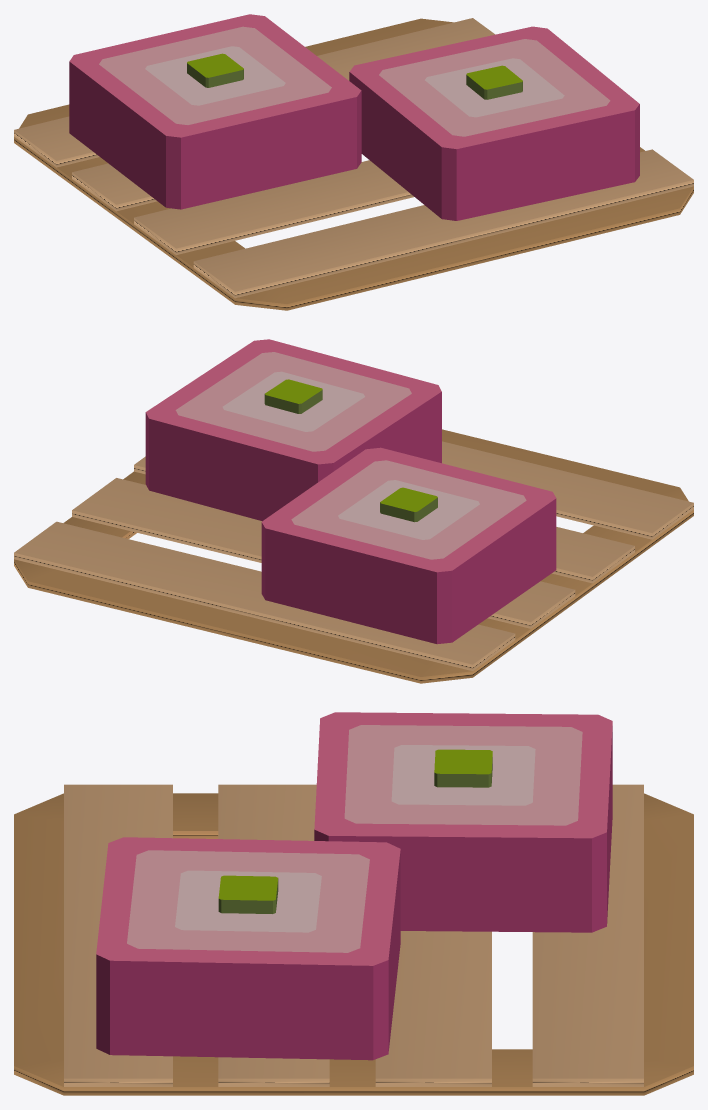
Rendered from BC_cookrecipe_S_11.fbx.
The picture shows the model from 3 angles, top to bottom: view 1: azimuth 30°, elevation 25°; view 2: azimuth 150°, elevation 25°; view 3: azimuth 270°, elevation 25°; orthographic projection. The views are drawn at different scales.
Visible parts, largest first — view 1: BC_cookrecipe_S_11 1, base; view 2: BC_cookrecipe_S_11 1, base; view 3: BC_cookrecipe_S_11 1, base.
Part boxes in pixels (x1=…): BC_cookrecipe_S_11 1: x1=69, y1=14, x2=639, y2=220; base: x1=14, y1=18, x2=693, y2=310; BC_cookrecipe_S_11 1: x1=145, y1=339, x2=556, y2=644; base: x1=14, y1=429, x2=693, y2=683; BC_cookrecipe_S_11 1: x1=96, y1=712, x2=612, y2=1060; base: x1=14, y1=784, x2=693, y2=1095.
Bounding box in the file's own units: 3.54 × 0.7031 × 3.47.
